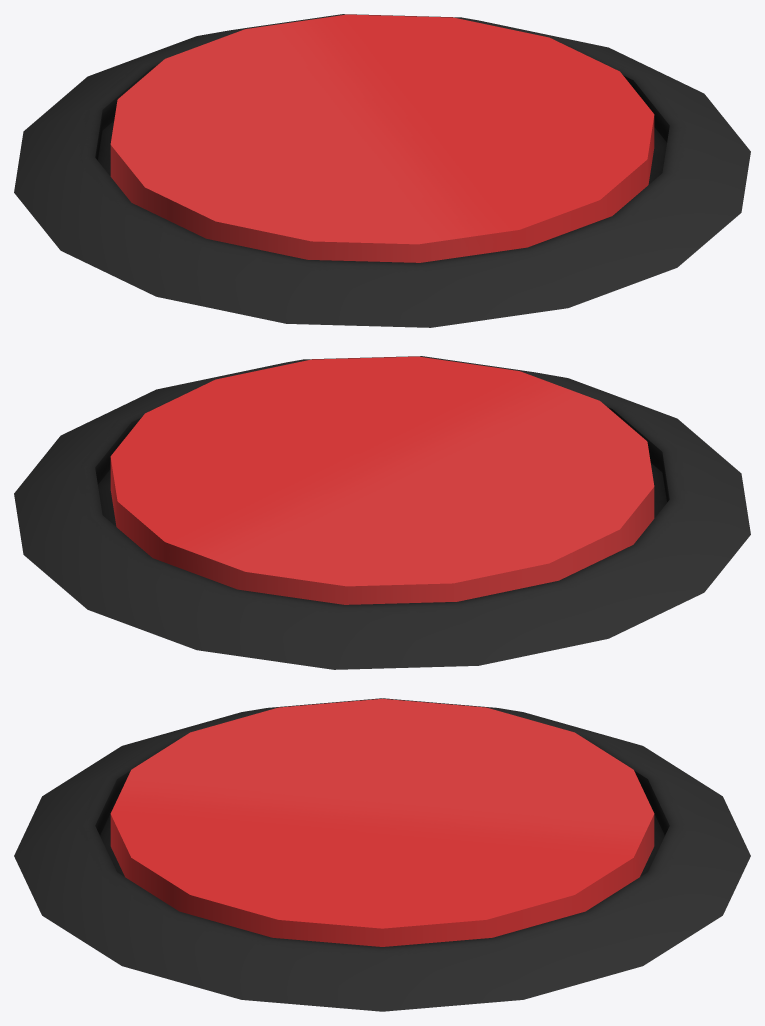
File: button_panel.glb
3 views of the same model, one above another, from view 1: azimuth 30°, elevation 25°; view 2: azimuth 150°, elevation 25°; view 3: azimuth 270°, elevation 25° (orthographic).
Parts seen in each view (by area): view 1: button_panel; view 2: button_panel; view 3: button_panel.
Part boxes in pixels (box(x1,y1,x2,y2)): button_panel: box(14, 14, 750, 327); button_panel: box(14, 356, 750, 669); button_panel: box(14, 698, 750, 1011).
Bounding box in the file's own units: 2.2 × 0.1393 × 2.2.
Materials: 1 (1 with a texture image).
